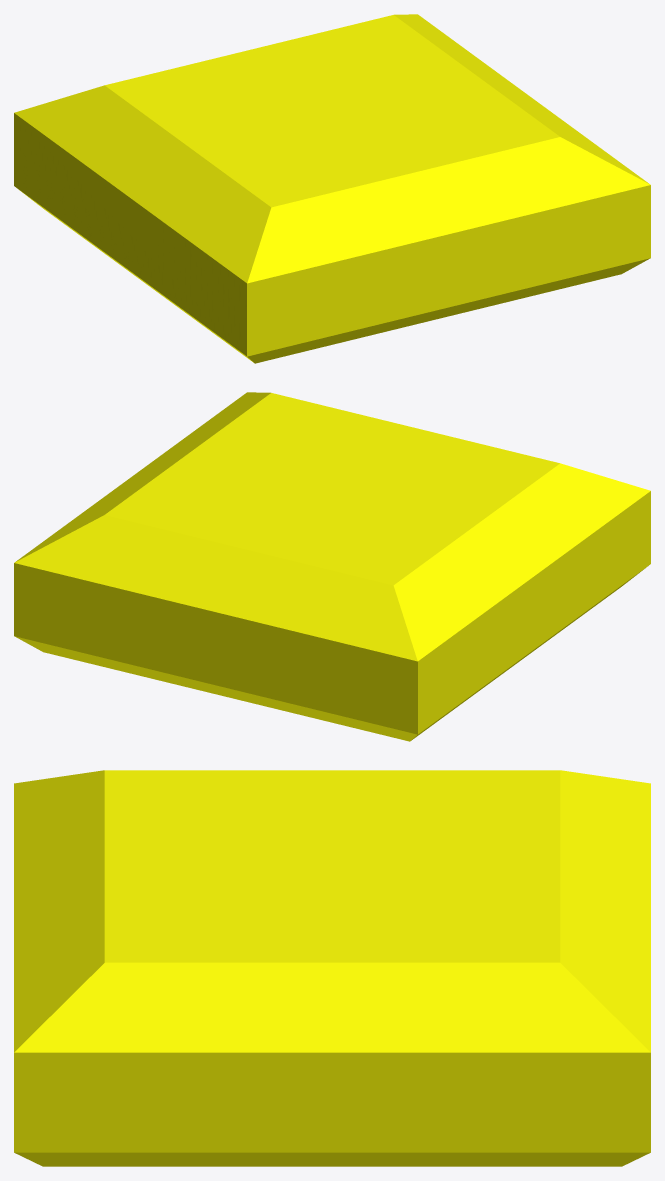
Rendered from Jem_18.fbx.
3 views of the same model, one above another, from view 1: azimuth 30°, elevation 25°; view 2: azimuth 150°, elevation 25°; view 3: azimuth 270°, elevation 25° (orthographic). The views are drawn at different scales.
Visible parts, largest first — view 1: Jem_18; view 2: Jem_18; view 3: Jem_18.
Boxes of the visible parts, x1,y1,x2,y2 form: Jem_18: (14, 14, 650, 363); Jem_18: (14, 392, 650, 741); Jem_18: (14, 770, 650, 1166).
Bounding box in the file's own units: 40 × 12.33 × 40.
